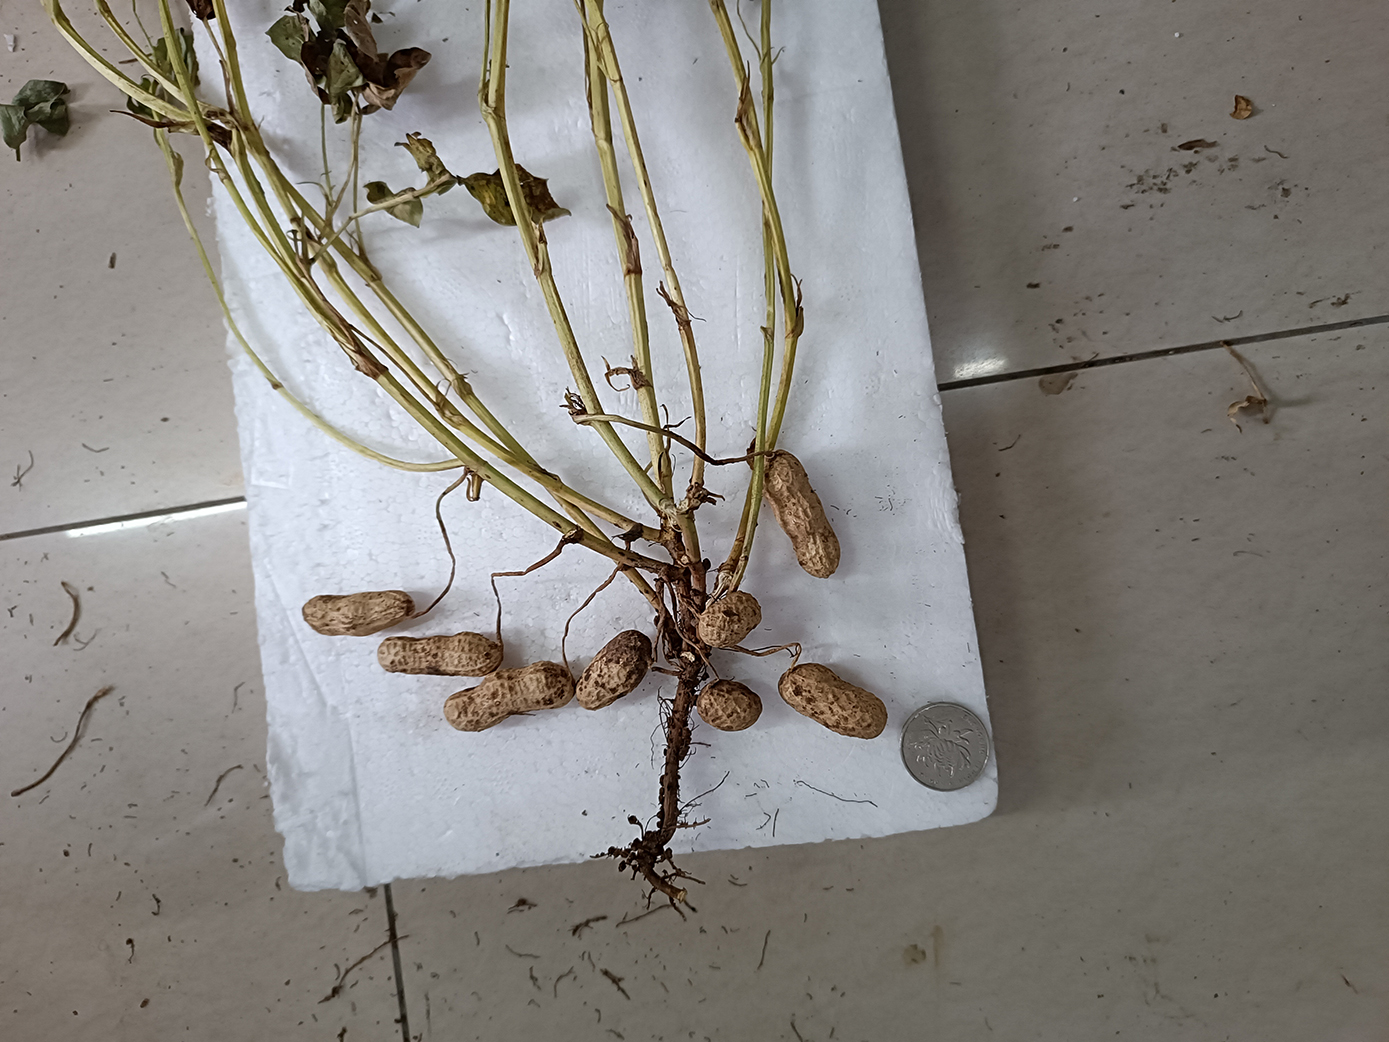h: (764, 451, 840, 577), (445, 662, 576, 733), (779, 662, 889, 740), (576, 630, 651, 711), (299, 589, 418, 636), (379, 632, 505, 675), (697, 591, 762, 649), (695, 680, 764, 732)
